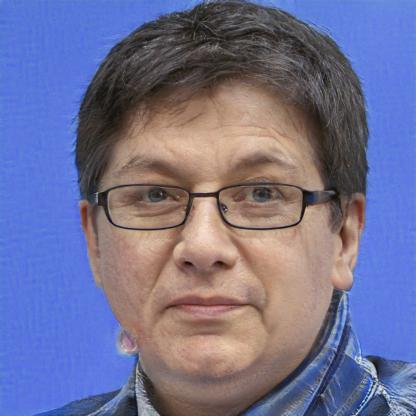glasses: (99, 176, 321, 239)
